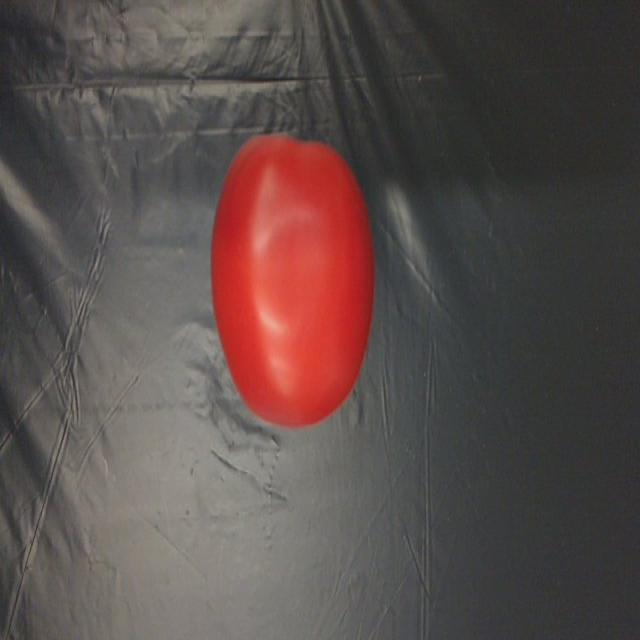kirmizi: (204, 134, 374, 436)
